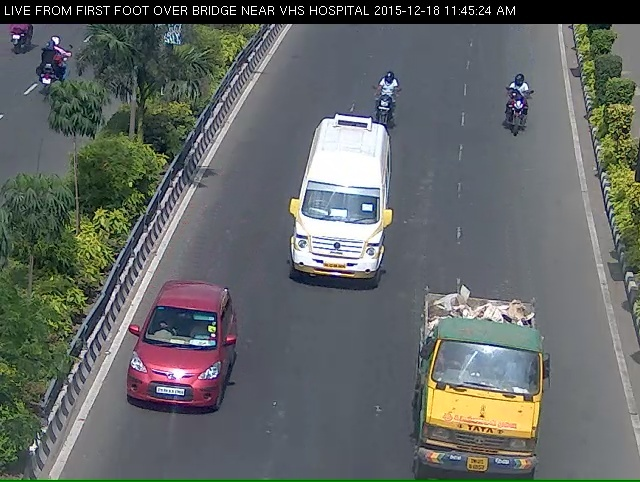Auto: (414, 305, 559, 481)
Bus: (280, 131, 397, 314)
Car: (102, 290, 237, 447)
Person: (496, 82, 538, 147), (365, 78, 399, 146)
